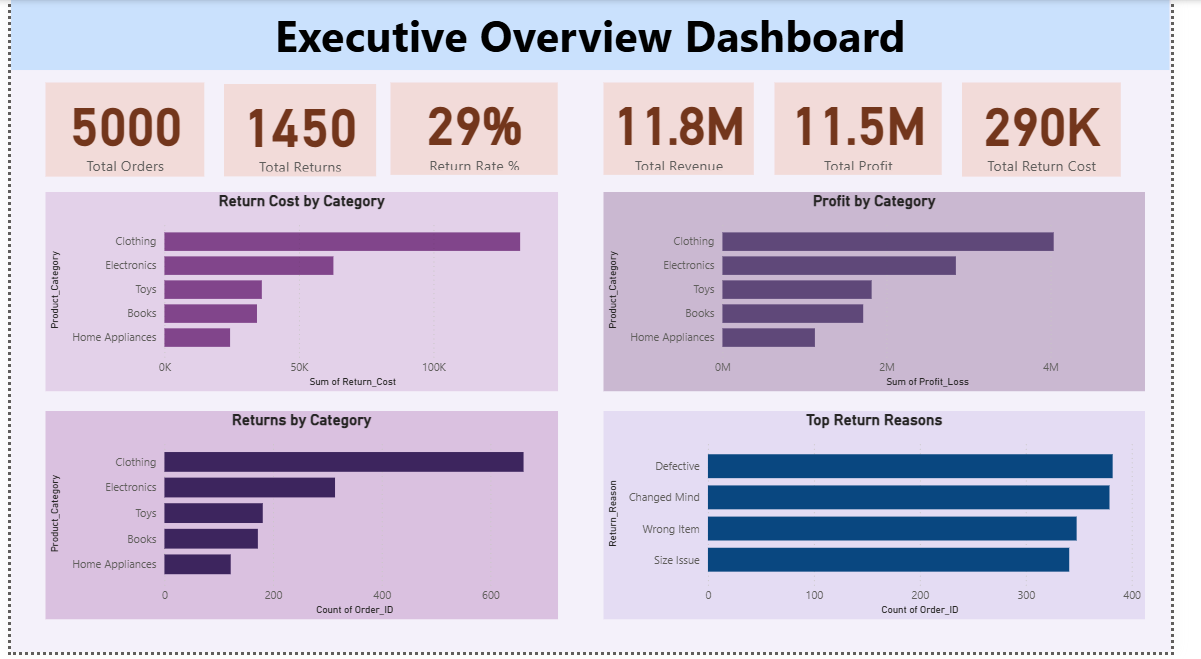

The page's visual inventory and layout, read from the dashboard file:
{"tool":"powerbi","page":{"name":"Executive Overview Dashboard","canvas":[1280,720],"ordinal":0},"visuals":[{"type":"clusteredBarChart","title":"Top Return Reasons","fields":{"Y":["CountNonNull(Return_Data (2).Order_ID)"],"Category":["Return_Data (2).Return_Reason"]},"box":[654,454,598,230],"z":0},{"type":"clusteredBarChart","title":"Returns by Category","fields":{"Category":["Return_Data (2).Product_Category"],"Y":["CountNonNull(Return_Data (2).Order_ID)"]},"box":[38,454,566,230],"z":1000},{"type":"clusteredBarChart","title":"Profit by Category","fields":{"Category":["Return_Data (2).Product_Category"],"Y":["Sum(Return_Data (2).Profit_Loss)"]},"box":[654,212,598,220],"z":2000},{"type":"clusteredBarChart","title":"Return Cost by Category","fields":{"Y":["Sum(Return_Data (2).Return_Cost)"],"Category":["Return_Data (2).Product_Category"]},"box":[38,212,566,220],"z":3000},{"type":"card","fields":{"Values":["Return_Data.Total Orders"]},"box":[37.7,90.6,175.5,103.8],"z":4000},{"type":"card","fields":{"Values":["Return_Data.Total Returns"]},"box":[235.8,92.5,167.9,101.9],"z":5000},{"type":"card","fields":{"Values":["Return_Data.Return Rate %"]},"box":[418.9,90.6,184.9,101.9],"z":6000},{"type":"card","fields":{"Values":["Return_Data.Total Revenue"]},"box":[654.7,90.6,166,101.9],"z":7000},{"type":"card","fields":{"Values":["Return_Data.Total Profit"]},"box":[843.4,90.6,184.9,101.9],"z":8000},{"type":"card","fields":{"Values":["Return_Data.Total Return Cost"]},"box":[1050.9,90.6,175.5,103.8],"z":9000},{"type":"textbox","box":[0,0,1279.2,77.4],"z":10000}]}

Visuals, with their boxes in screenshot pixels (x1, y1, x2, y2), scaled from the page's 1280x720 canvas onto the 1201x659 screenshot:
"Top Return Reasons" clusteredBarChart: 614:416:1175:626
"Returns by Category" clusteredBarChart: 36:416:567:626
"Profit by Category" clusteredBarChart: 614:194:1175:395
"Return Cost by Category" clusteredBarChart: 36:194:567:395
card - Return_Data.Total Orders: 35:83:200:178
card - Return_Data.Total Returns: 221:85:379:178
card - Return_Data.Return Rate %: 393:83:567:176
card - Return_Data.Total Revenue: 614:83:770:176
card - Return_Data.Total Profit: 791:83:965:176
card - Return_Data.Total Return Cost: 986:83:1151:178
textbox: 0:0:1200:71
